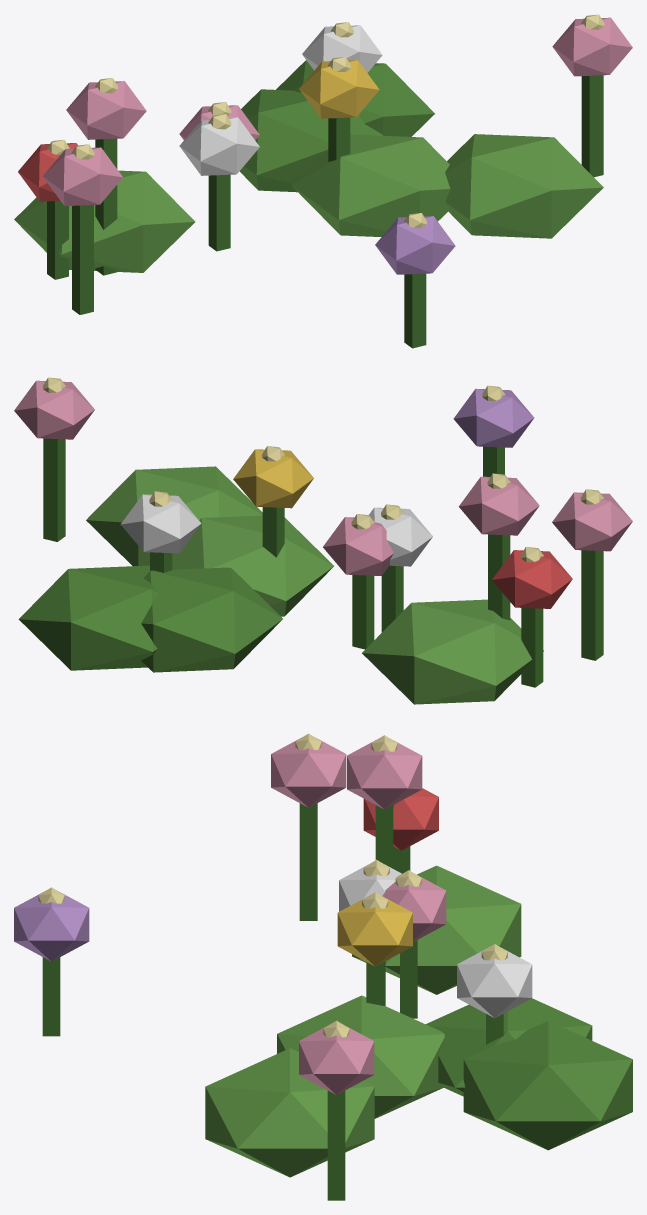
Rendered from c-blooms-mixed.glb.
3 views of the same model, one above another, from view 1: azimuth 30°, elevation 25°; view 2: azimuth 150°, elevation 25°; view 3: azimuth 270°, elevation 25° (orthographic). The views are drawn at different scales.
Parts seen in each view (by area): view 1: c-blooms-mixed; view 2: c-blooms-mixed; view 3: c-blooms-mixed.
Part boxes in pixels (box(x1,y1,x2,y2)): c-blooms-mixed: box(14, 14, 632, 348); c-blooms-mixed: box(14, 377, 632, 704); c-blooms-mixed: box(14, 733, 632, 1200).
Bounding box in the file's own units: 0.6658 × 0.2219 × 0.5596.
